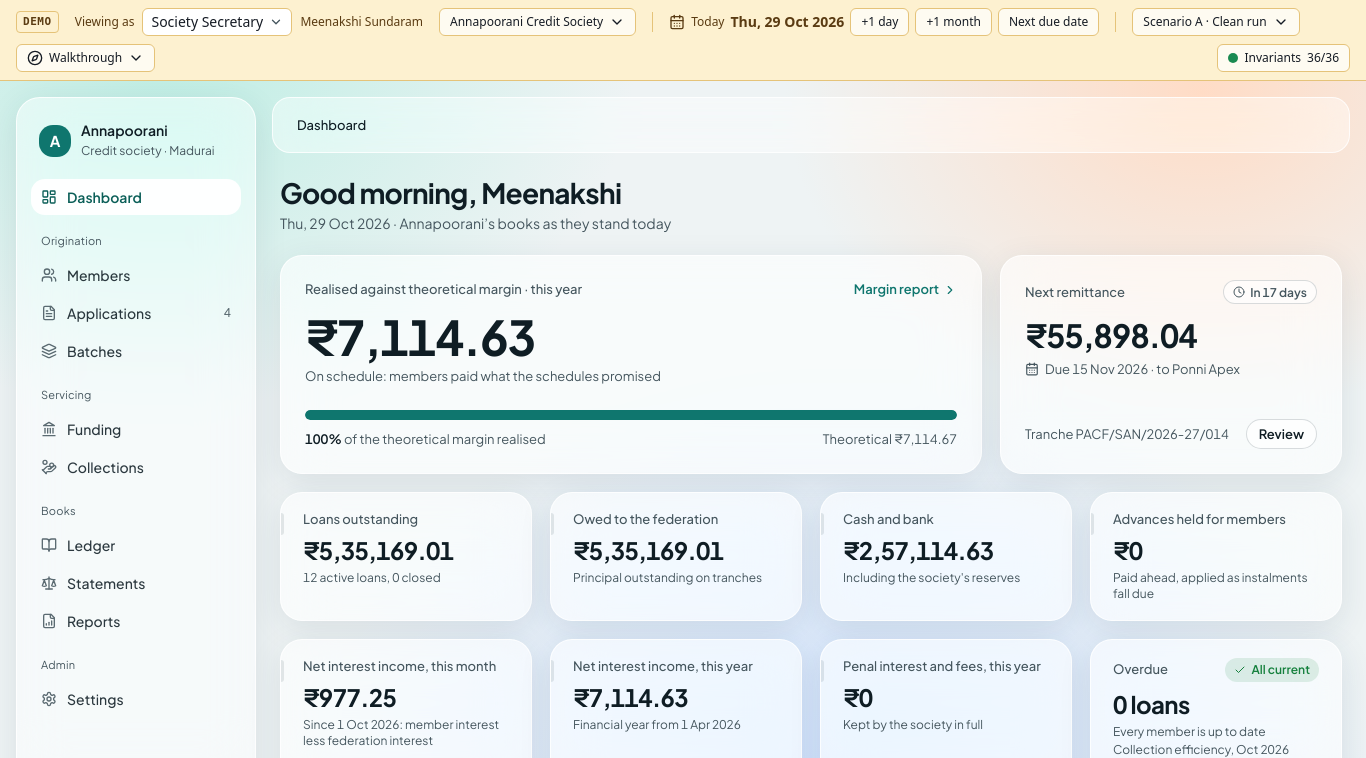
Test case: the app shell › marks the auditor read only
The image size is (1366, 758).
Select "Auditor" in the dropdown at (218, 22), box [142, 8, 292, 36]
(page scrolled)
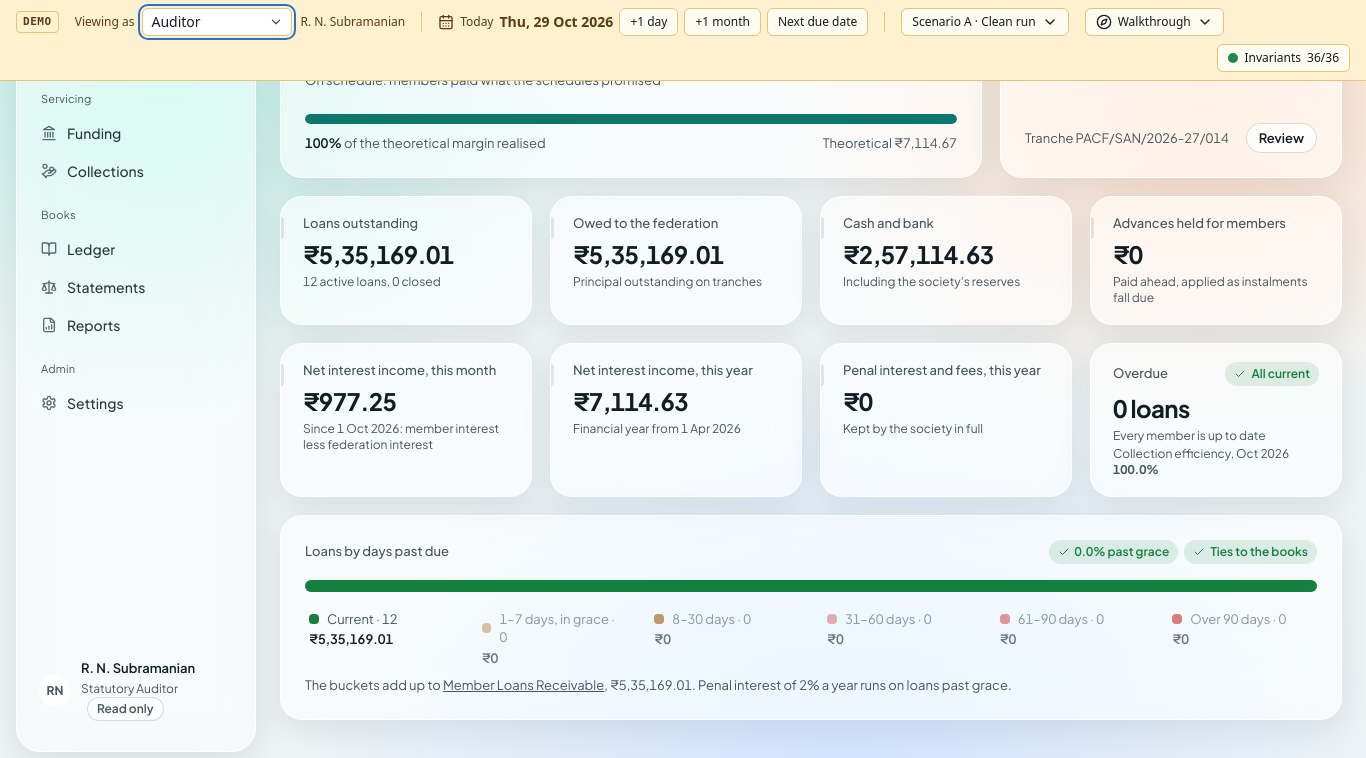
Now the text "Read only" is shown, box [87, 697, 164, 721]
